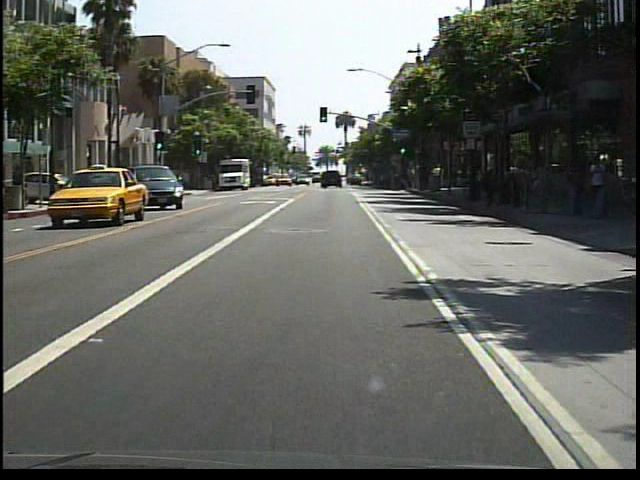person: (584, 152, 611, 192)
